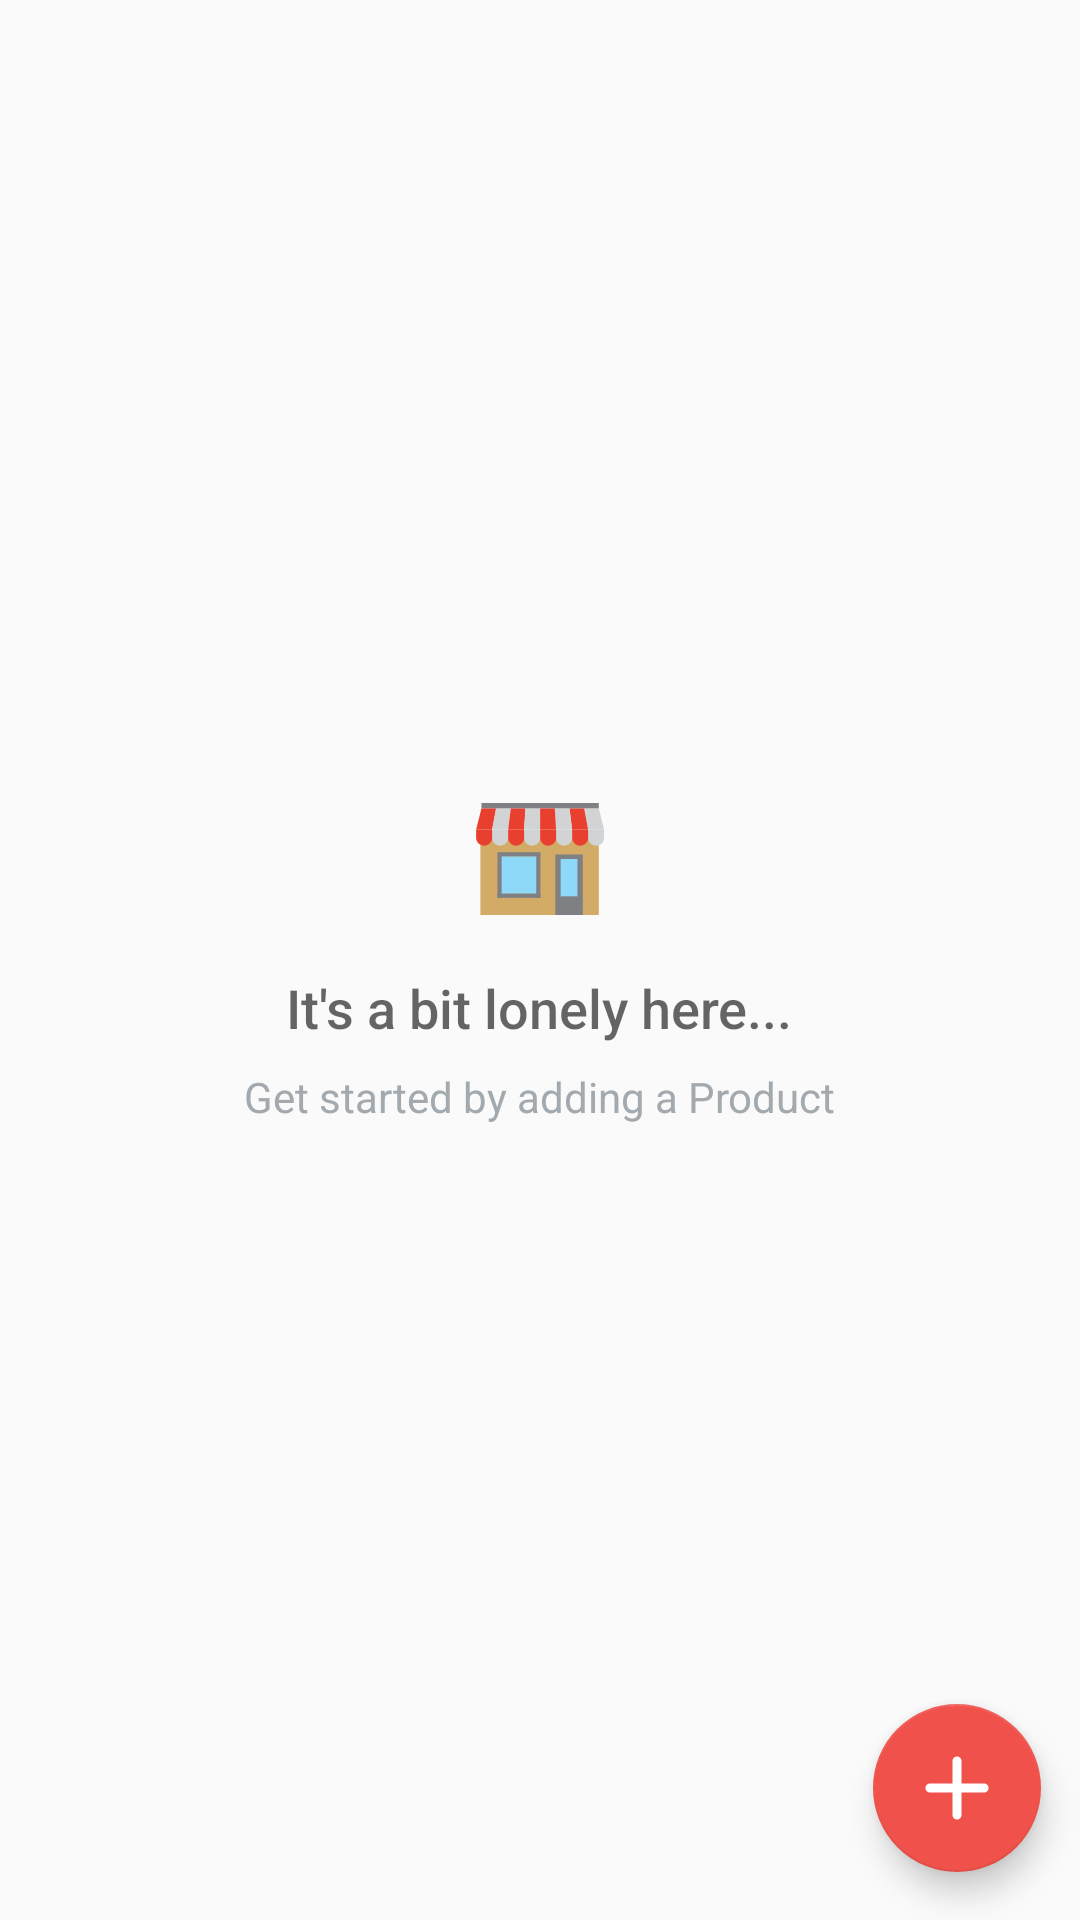

Named icons in this screenshot (1080×1920) and their bounding boxes, (x1, y1, x2, y2):
add: (873, 1704, 1041, 1872)
store: (476, 803, 604, 915)
